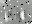person: (7, 12, 13, 23), (21, 8, 26, 21)
